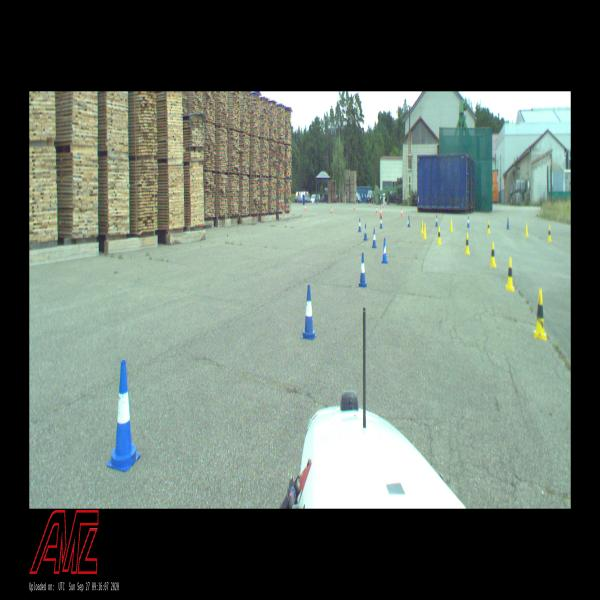blue_cone: (107, 360, 140, 472), (301, 286, 317, 340), (359, 253, 367, 288), (382, 238, 388, 264), (372, 229, 376, 248), (358, 218, 362, 232), (364, 224, 367, 240), (407, 215, 411, 227), (467, 215, 470, 228), (380, 217, 383, 228), (507, 218, 510, 229), (435, 215, 438, 225)
orange_cone: (375, 206, 378, 214), (380, 208, 382, 218), (353, 203, 355, 210), (331, 207, 333, 213), (401, 208, 402, 216), (369, 202, 371, 206), (305, 204, 306, 211), (383, 203, 384, 209)
yellow_cone: (534, 290, 546, 340), (506, 258, 514, 290), (490, 242, 496, 267), (464, 233, 470, 254), (438, 227, 442, 244), (548, 226, 552, 241), (524, 223, 528, 237), (423, 224, 427, 238), (421, 219, 424, 234), (450, 219, 453, 232), (488, 221, 490, 234)
